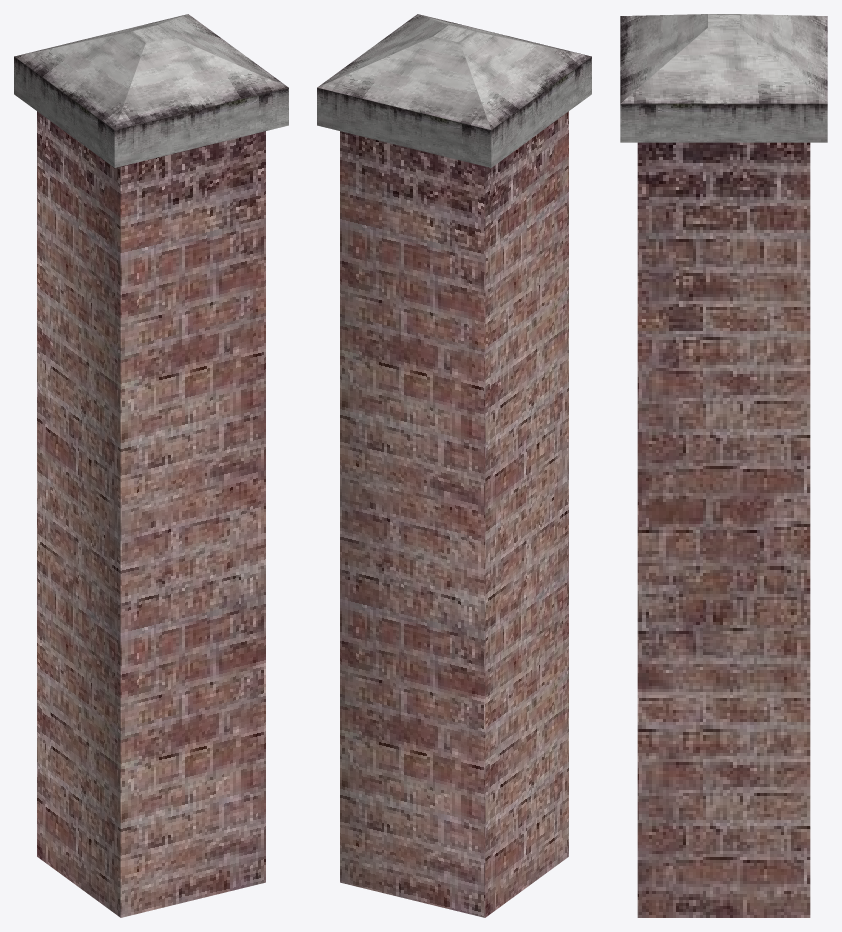
Rendered from lf_brick_wall_pole.glb.
The picture shows the model from 3 angles, left to right: view 1: azimuth 30°, elevation 25°; view 2: azimuth 150°, elevation 25°; view 3: azimuth 270°, elevation 25°; orthographic projection. The views are drawn at different scales.
Visible parts, largest first — view 1: brick_wall_pole; view 2: brick_wall_pole; view 3: brick_wall_pole.
Part boxes in pixels (box(x1,y1,x2,y2)): brick_wall_pole: box(14, 14, 288, 917); brick_wall_pole: box(317, 14, 591, 917); brick_wall_pole: box(620, 14, 827, 917).
Size of the model in its own units: 0.4799 by 2.2 by 0.4799.
2 materials, 2 textured.
